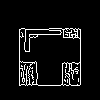L: (25, 25, 71, 54)
